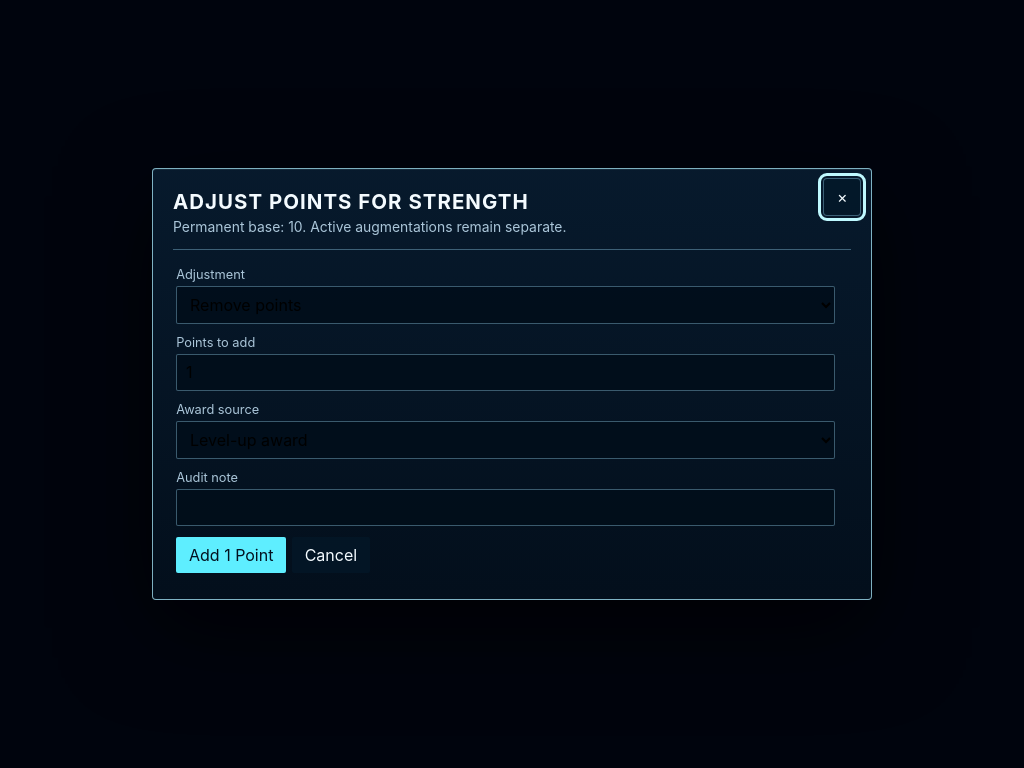
it: SheetCoreStatPointDialog › submits a negative-direction manual correction for removed core-stat points
The width and height of the screenshot is (1024, 768).
Select "Remove points" in the dropdown labelled "Adjustment": (505, 305) [176, 286, 835, 324]
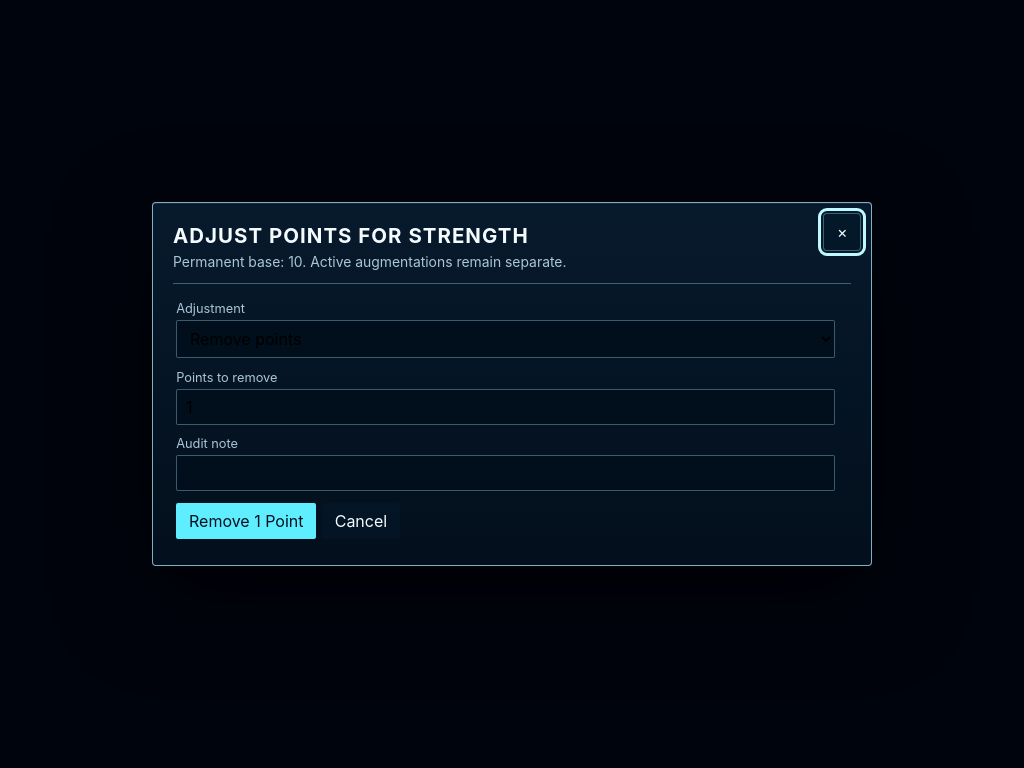
Result: the text "Points to remove" is shown at [176, 370, 278, 384]
